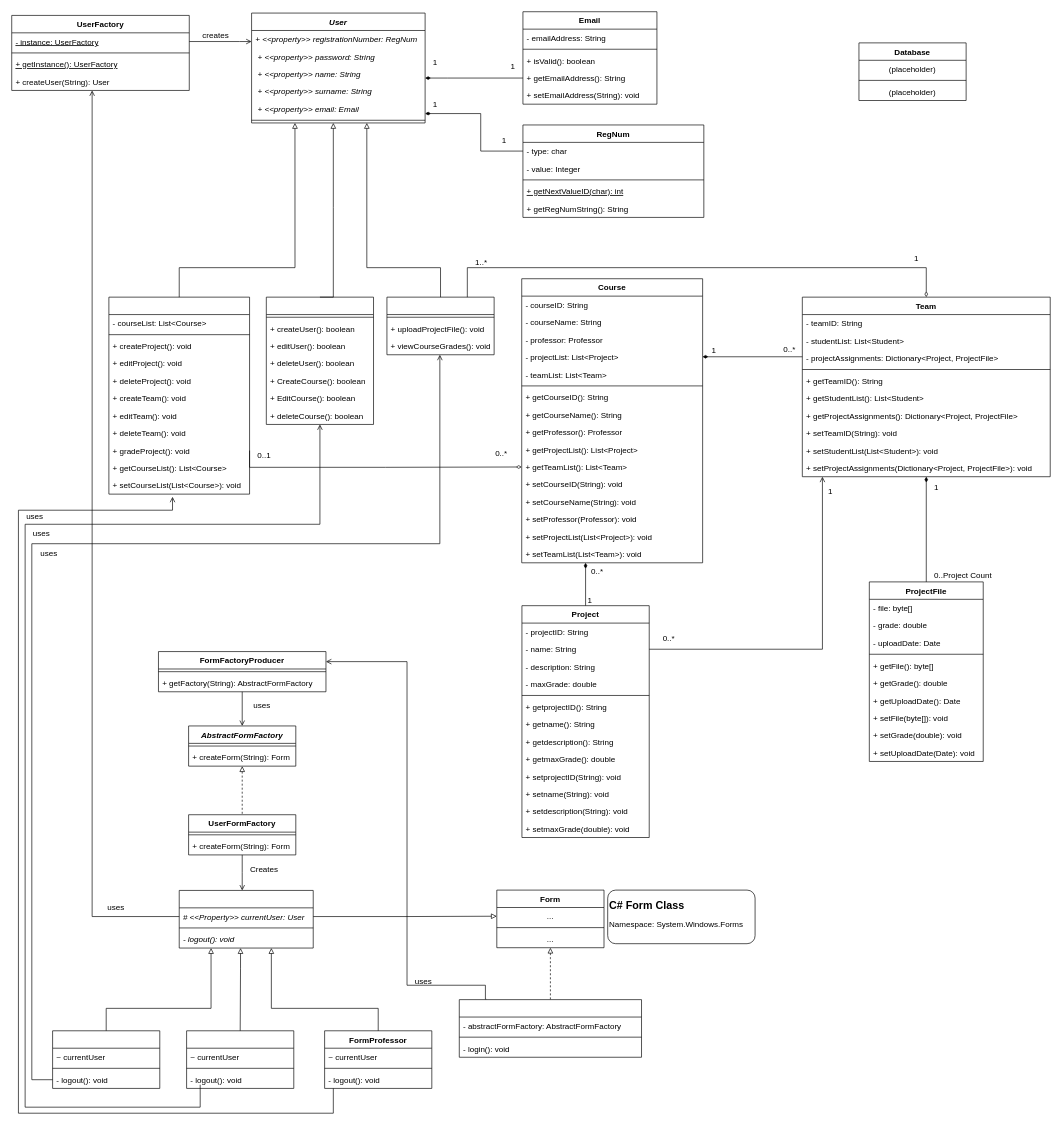
Some shapes in this 1062 by 1130 pixel diagram are drawn without their labels. Each missing label, with the box of its shape:
Admin: (266, 296, 374, 424)
FormAdmin: (186, 1030, 294, 1088)
FormLogin: (459, 999, 642, 1057)
FormStudent: (52, 1030, 160, 1088)
Professor: (108, 296, 250, 494)
Student: (386, 296, 494, 355)
UserForm: (179, 890, 313, 948)
